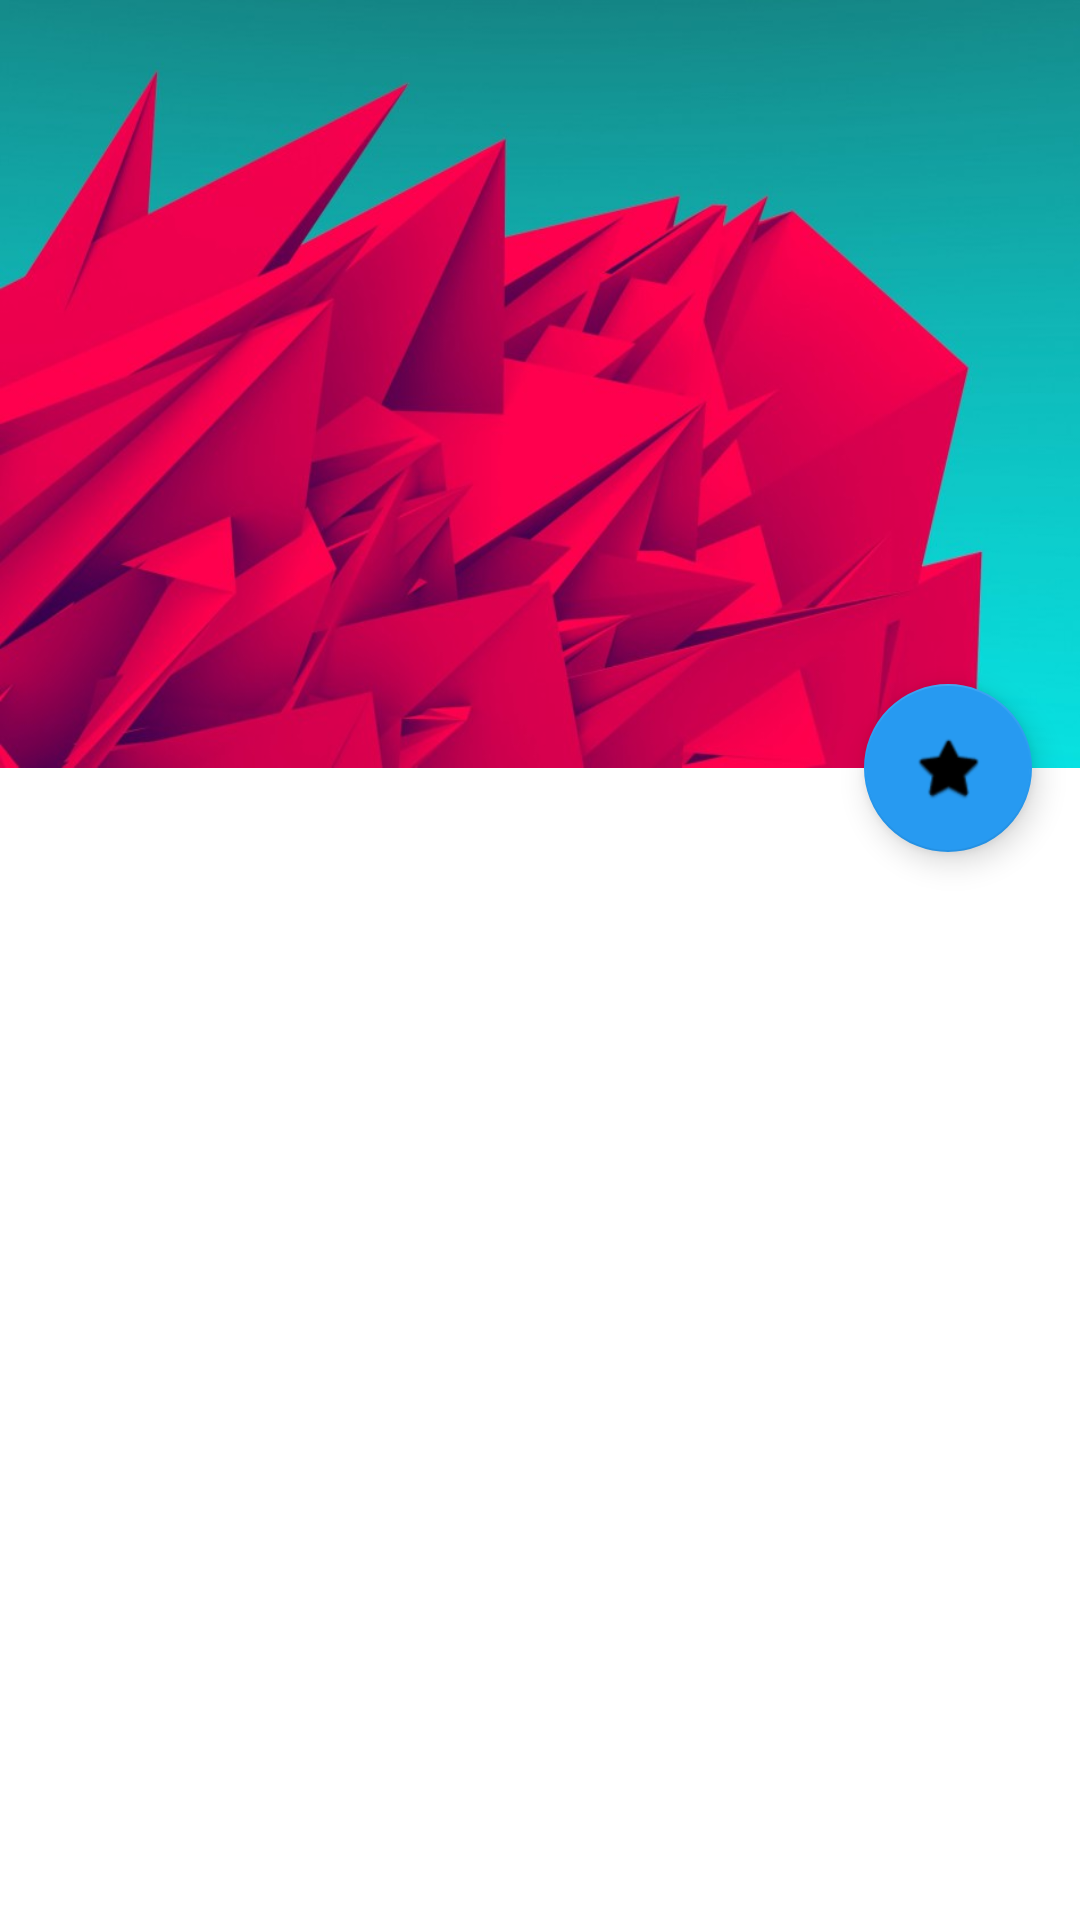

Where to tap for icons on this 1080px x 1920px app screen, as point (x, y):
star: point (948, 768)
